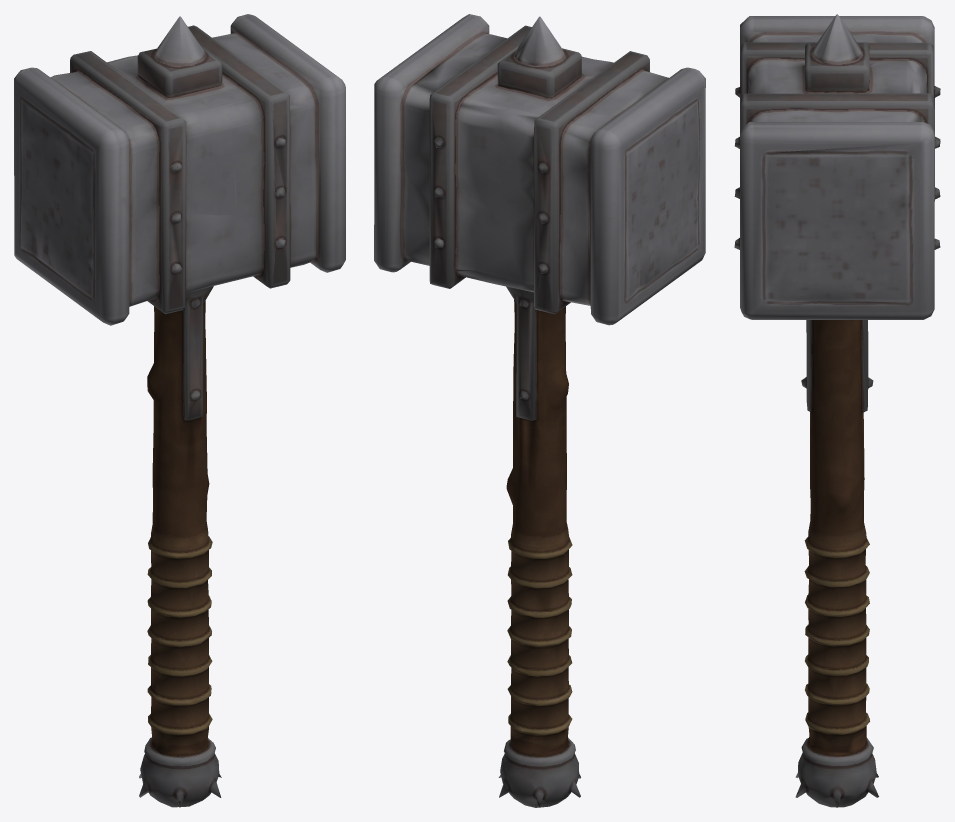
Rendered from boss_brute_hammer_gor.glb.
The picture shows the model from 3 angles, left to right: view 1: azimuth 30°, elevation 25°; view 2: azimuth 150°, elevation 25°; view 3: azimuth 270°, elevation 25°; orthographic projection.
Parts seen in each view (by area): view 1: boss_brute_hammer_gor; view 2: boss_brute_hammer_gor; view 3: boss_brute_hammer_gor.
Part boxes in pixels (x1,y1,x2,y2): boss_brute_hammer_gor: (14, 14, 345, 807); boss_brute_hammer_gor: (374, 14, 705, 807); boss_brute_hammer_gor: (734, 14, 940, 807).
Size of the model in its own units: 0.62 by 1.88 by 0.4438.
1 material, 1 textured.
